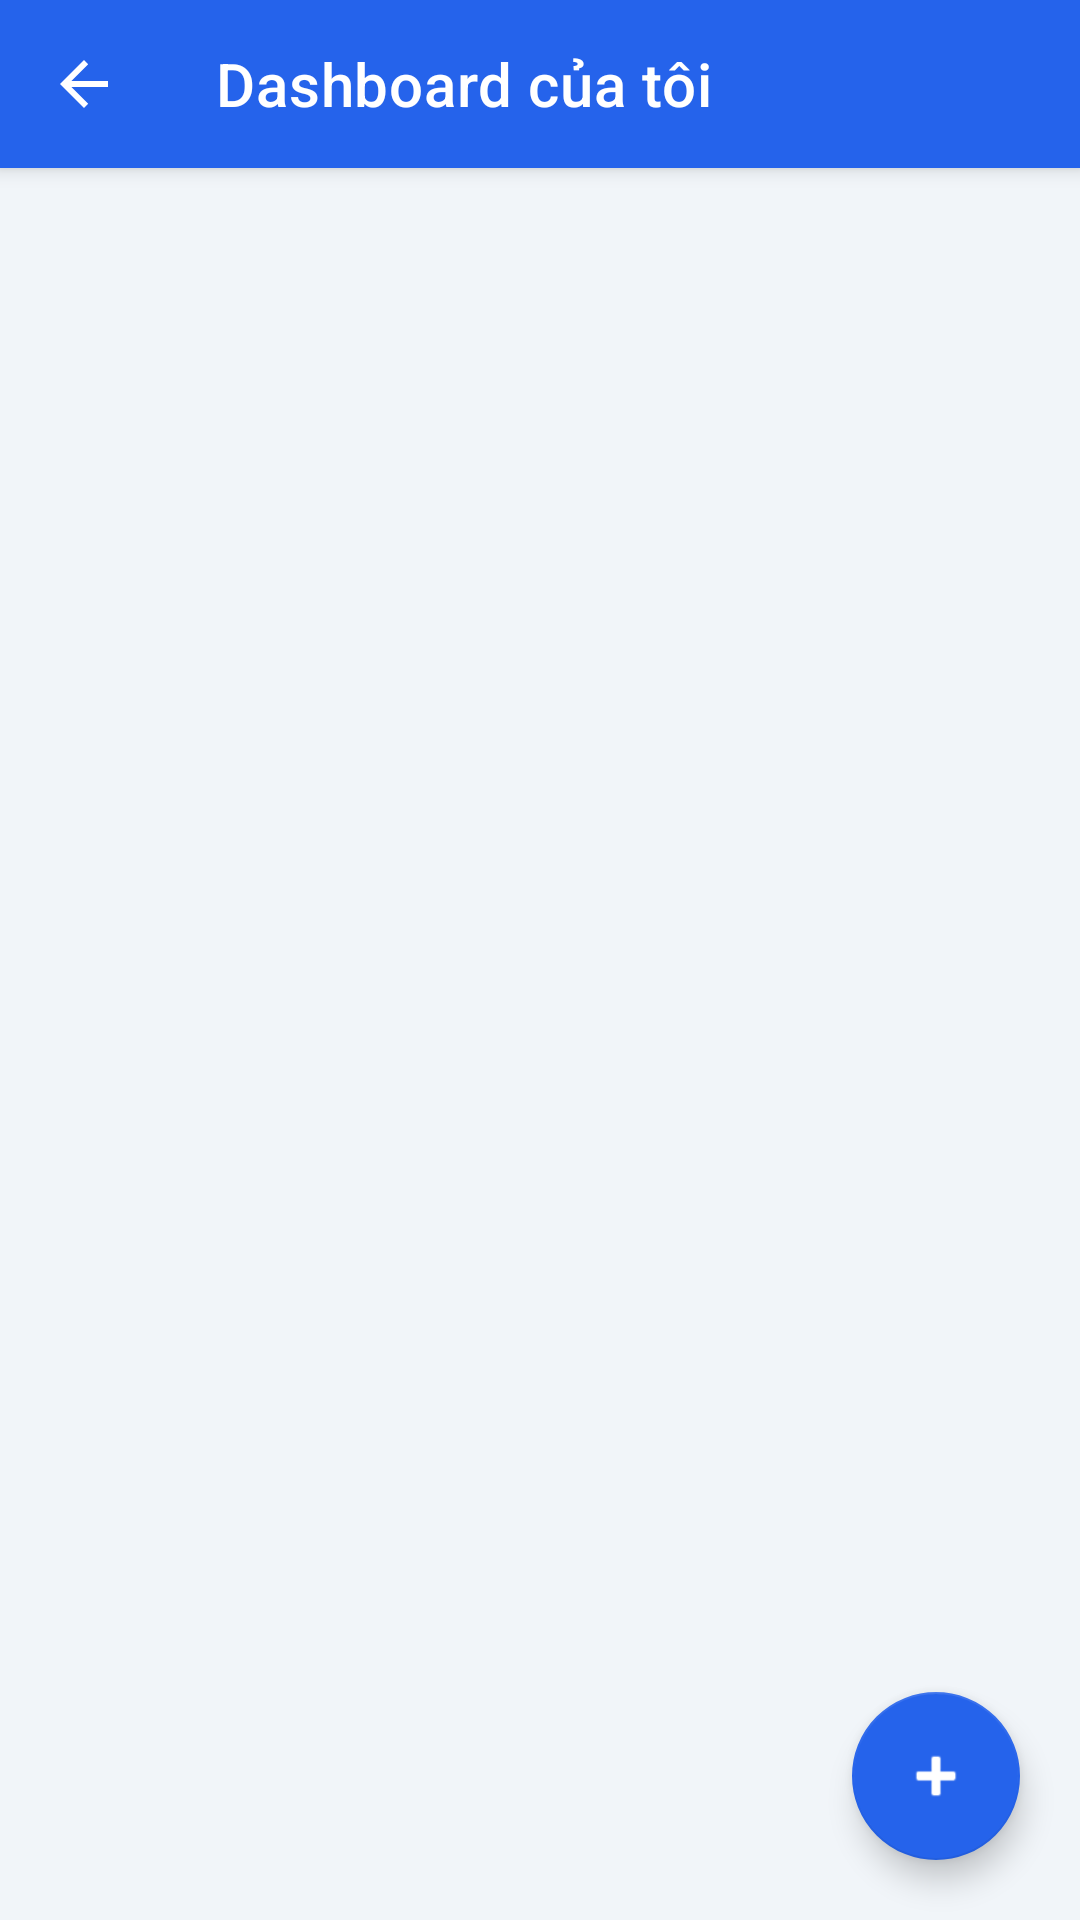

Screen size 1080×1920. Icon name, then its center in pixels as [x,y]:
Đăng tin mới: [936,1776]
